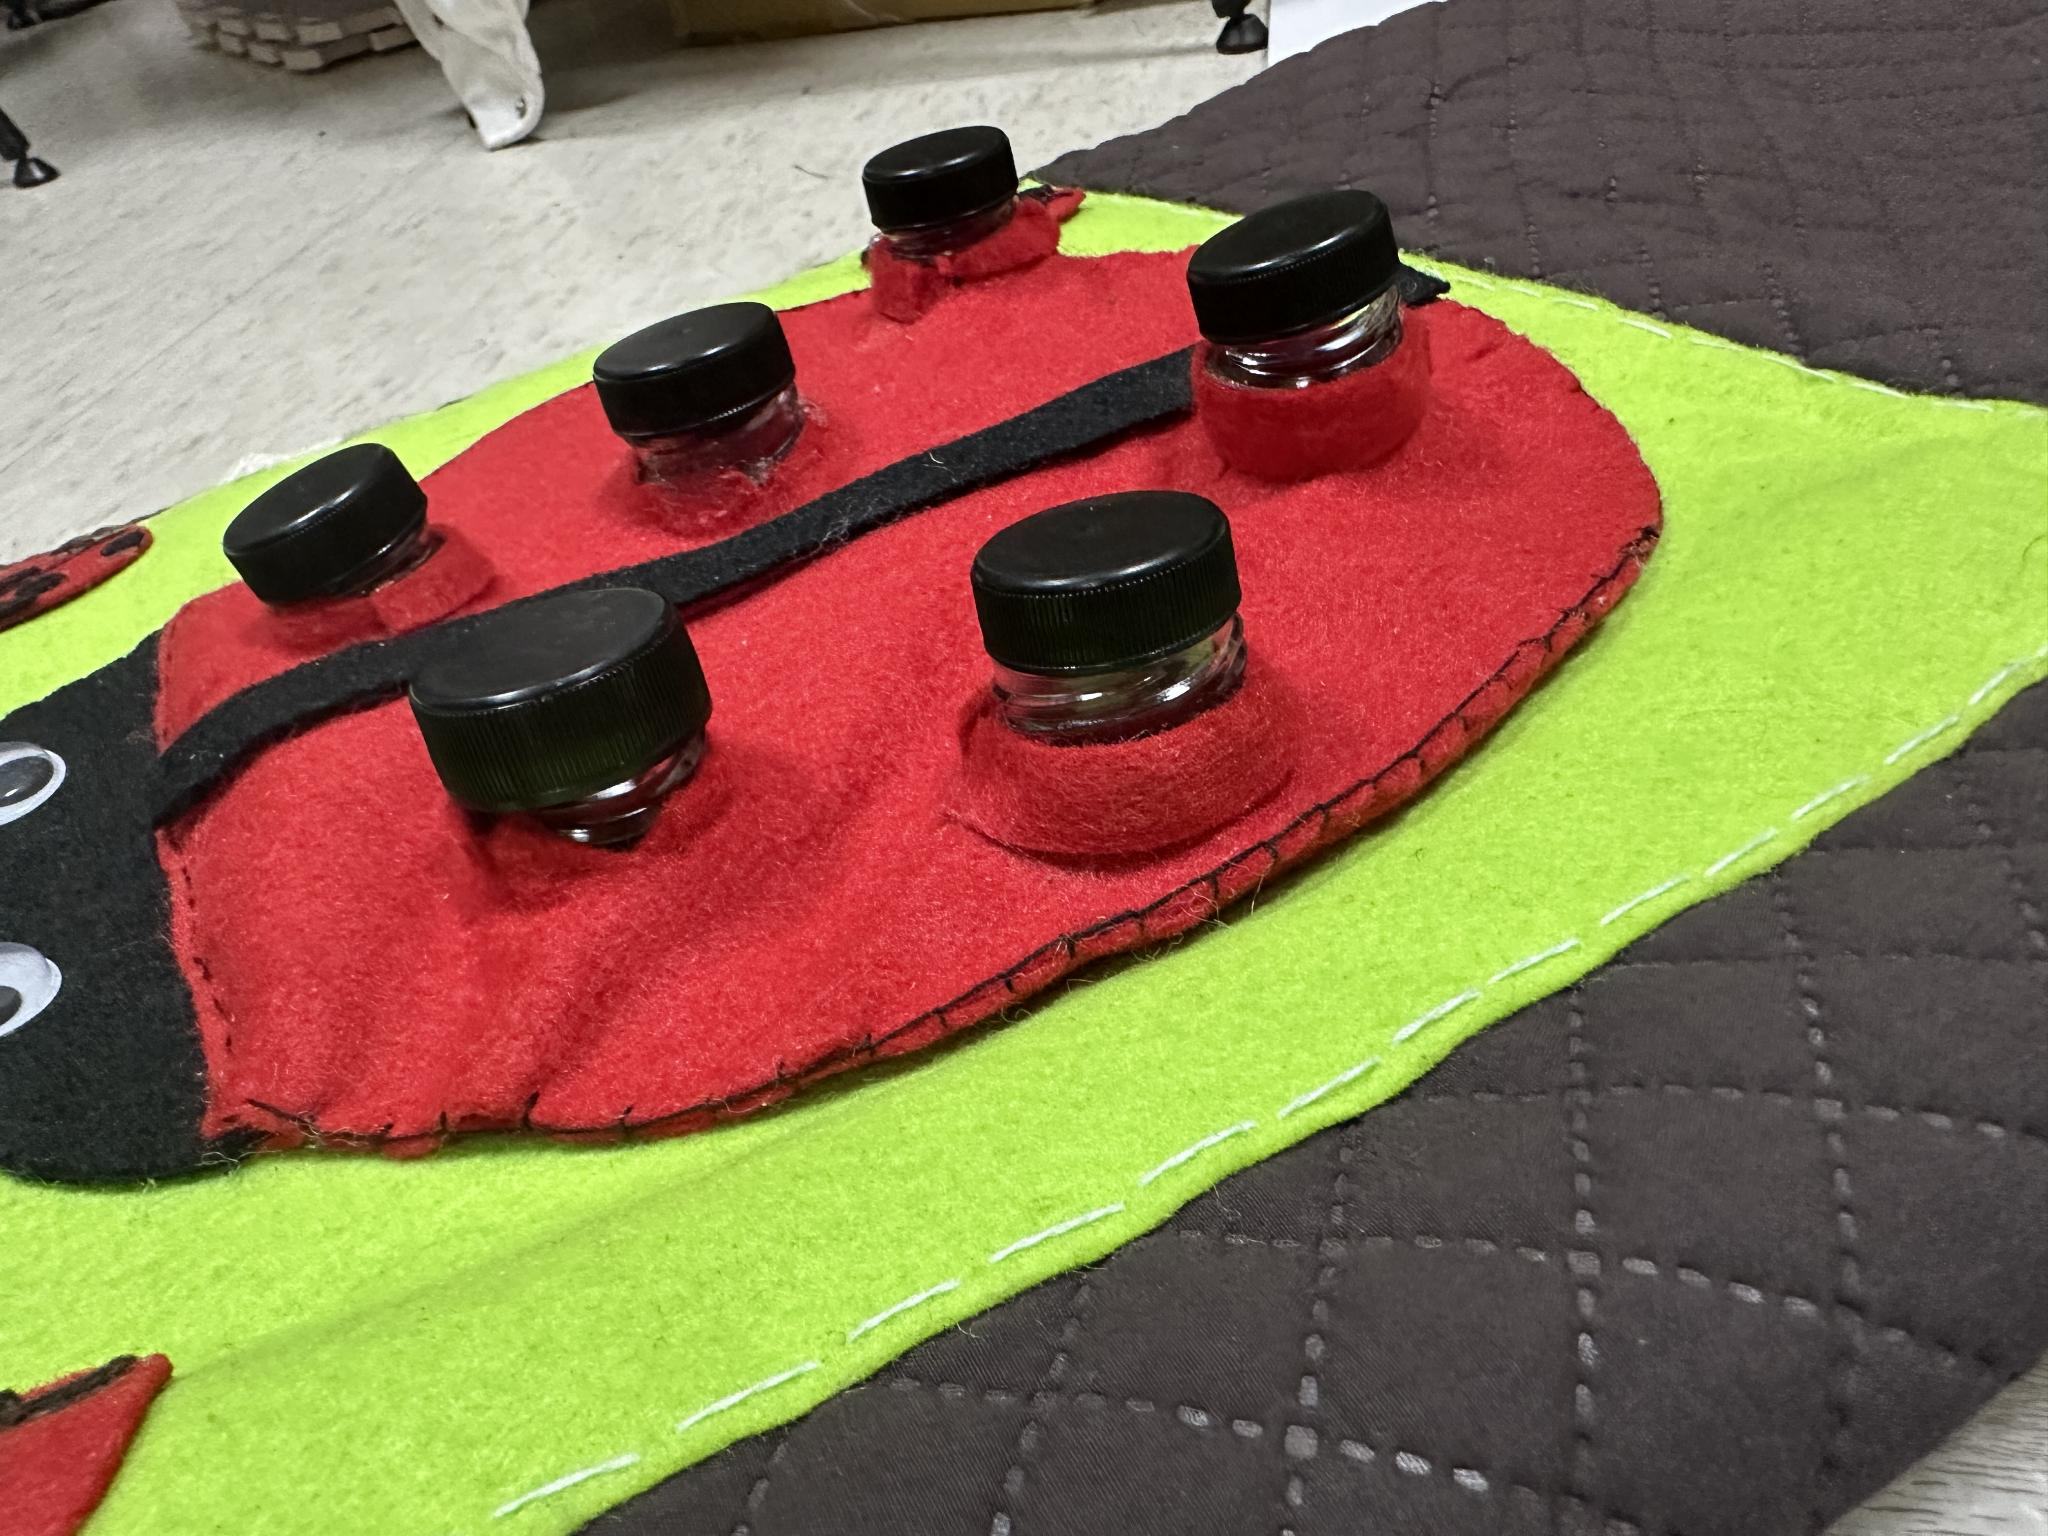cap_ng: (942, 489, 1292, 844), (406, 592, 756, 883), (1176, 181, 1447, 489), (564, 290, 848, 529), (221, 428, 481, 626), (839, 118, 1074, 313)
